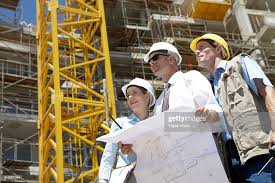Person_wearing_helmet: (188, 29, 234, 55), (136, 40, 179, 65)
